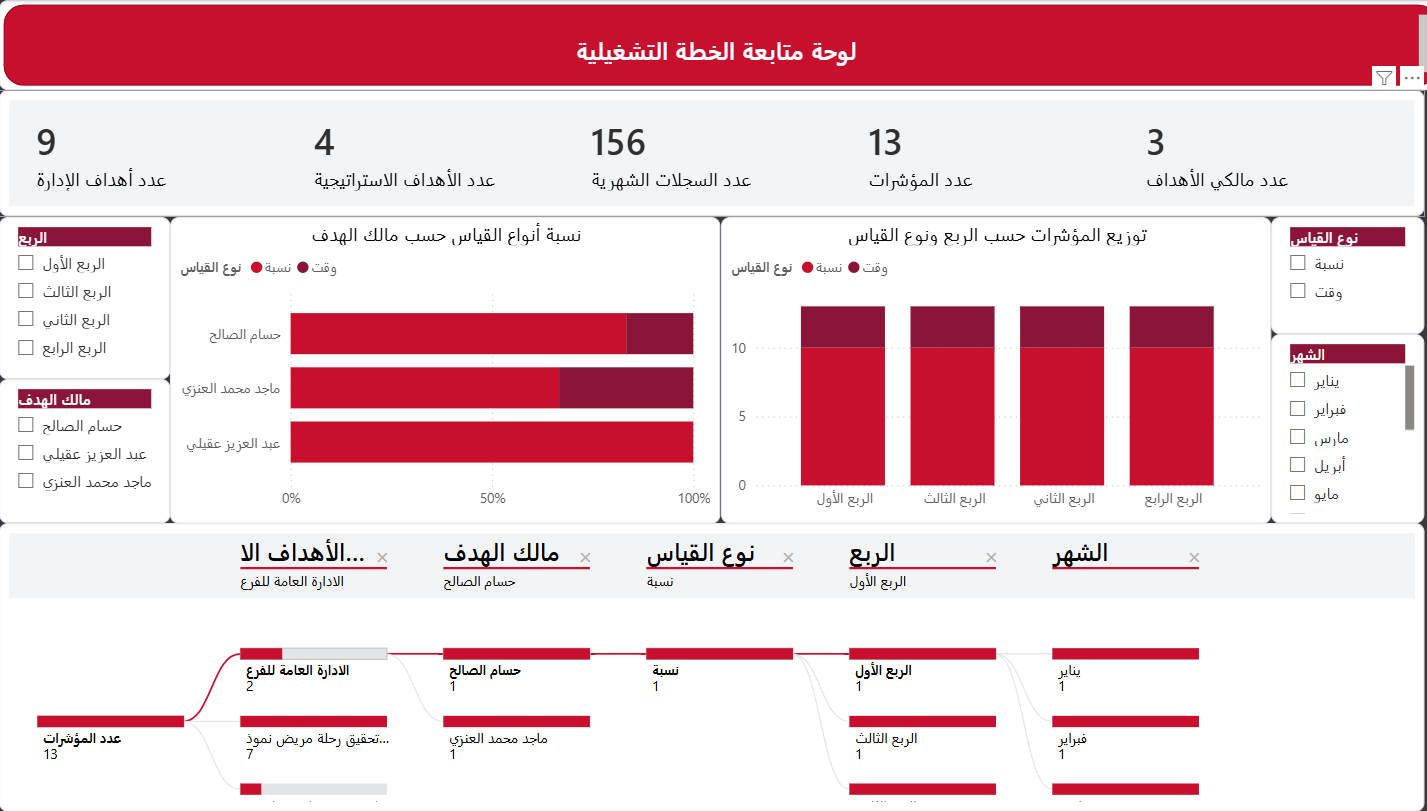

The page's visual inventory and layout, read from the dashboard file:
{"tool":"powerbi","page":{"name":"P1","canvas":[1280,720],"ordinal":1},"visuals":[{"type":"shape","box":[0,0,1280,80],"z":0},{"type":"textbox","box":[8,8,1264,80],"z":1000},{"type":"cardVisual","fields":{"Data":["FACT_TBL.عدد أهداف الإدارة","FACT_TBL.عدد الأهداف الاستراتيجية","FACT_TBL.عدد السجلات الشهرية","FACT_TBL.عدد المؤشرات","Bridge.عدد مالكي الأهداف"]},"box":[0,80,1264,112],"z":2000},{"type":"slicer","fields":{"Values":["FACT_TBL.الربع"]},"box":[0,192,152,144],"z":3000},{"type":"slicer","fields":{"Values":["FACT_TBL.الشهر"]},"box":[1128,296,136,168],"z":4000},{"type":"slicer","fields":{"Values":["Bridge.مالك الهدف"]},"box":[0,336,152,128],"z":5000},{"type":"slicer","fields":{"Values":["FACT_TBL.نوع القياس"]},"box":[1128,192,136,104],"z":6000},{"type":"hundredPercentStackedBarChart","title":"نسبة أنواع القياس حسب مالك الهدف","fields":{"Category":["Bridge.مالك الهدف"],"Y":["FACT_TBL.عدد المؤشرات"],"Series":["FACT_TBL.نوع القياس"]},"box":[152,192,488,272],"z":7000},{"type":"columnChart","title":"توزيع المؤشرات حسب الربع ونوع القياس","fields":{"Category":["FACT_TBL.الربع"],"Y":["FACT_TBL.عدد المؤشرات"],"Series":["FACT_TBL.نوع القياس"]},"box":[640,192,488,272],"z":8000},{"type":"decompositionTreeVisual","fields":{"Analyze":["FACT_TBL.عدد المؤشرات"],"ExplainBy":["FACT_TBL.الأهداف الاستراتيجية /الإدارة","Bridge.مالك الهدف","FACT_TBL.نوع القياس","FACT_TBL.الربع","FACT_TBL.الشهر"]},"box":[0,464,1264,256],"z":9000}]}

Visuals, with their boxes in screenshot pixels (x1, y1, x2, y2), scaled from the page's 1280x720 canvas onto the 1427x811 screenshot:
shape: x1=0 y1=0 x2=1426 y2=90
textbox: x1=9 y1=9 x2=1418 y2=99
cardVisual - FACT_TBL.عدد أهداف الإدارة x FACT_TBL.عدد الأهداف الاستراتيجية: x1=0 y1=90 x2=1409 y2=216
slicer - FACT_TBL.الربع: x1=0 y1=216 x2=169 y2=378
slicer - FACT_TBL.الشهر: x1=1258 y1=333 x2=1409 y2=523
slicer - Bridge.مالك الهدف: x1=0 y1=378 x2=169 y2=523
slicer - FACT_TBL.نوع القياس: x1=1258 y1=216 x2=1409 y2=333
"نسبة أنواع القياس حسب مالك الهدف" hundredPercentStackedBarChart: x1=169 y1=216 x2=714 y2=523
"توزيع المؤشرات حسب الربع ونوع القياس" columnChart: x1=714 y1=216 x2=1258 y2=523
decompositionTreeVisual - FACT_TBL.عدد المؤشرات x FACT_TBL.الأهداف الاستراتيجية /الإدارة: x1=0 y1=523 x2=1409 y2=810
